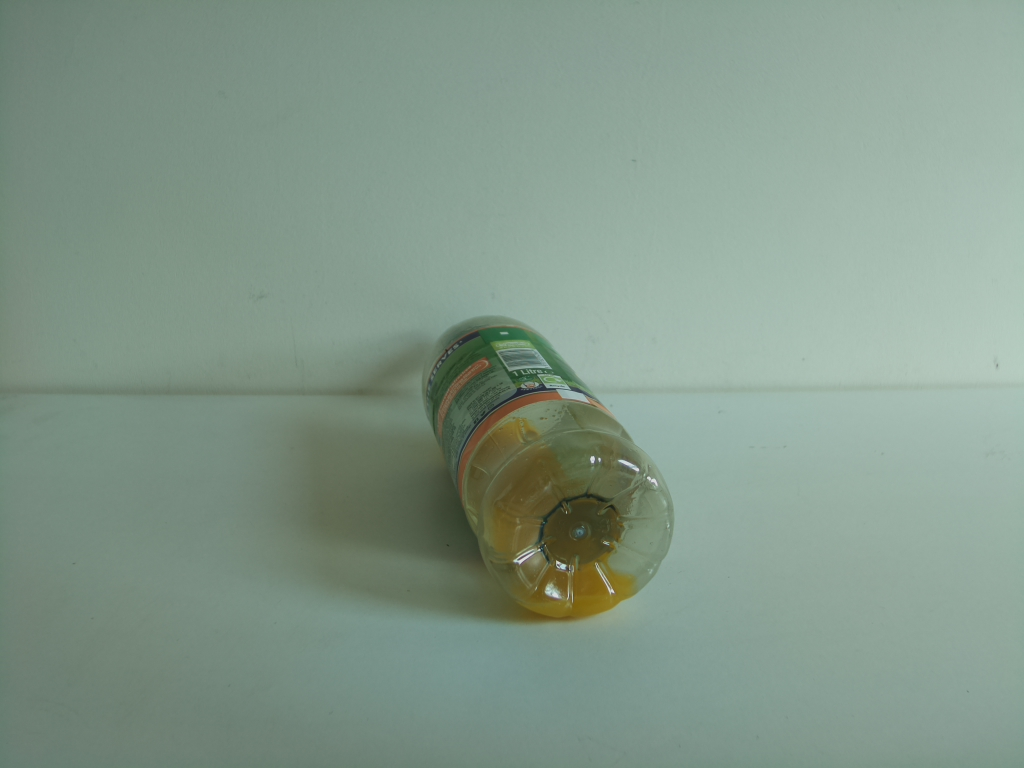juice: (415, 310, 682, 619)
